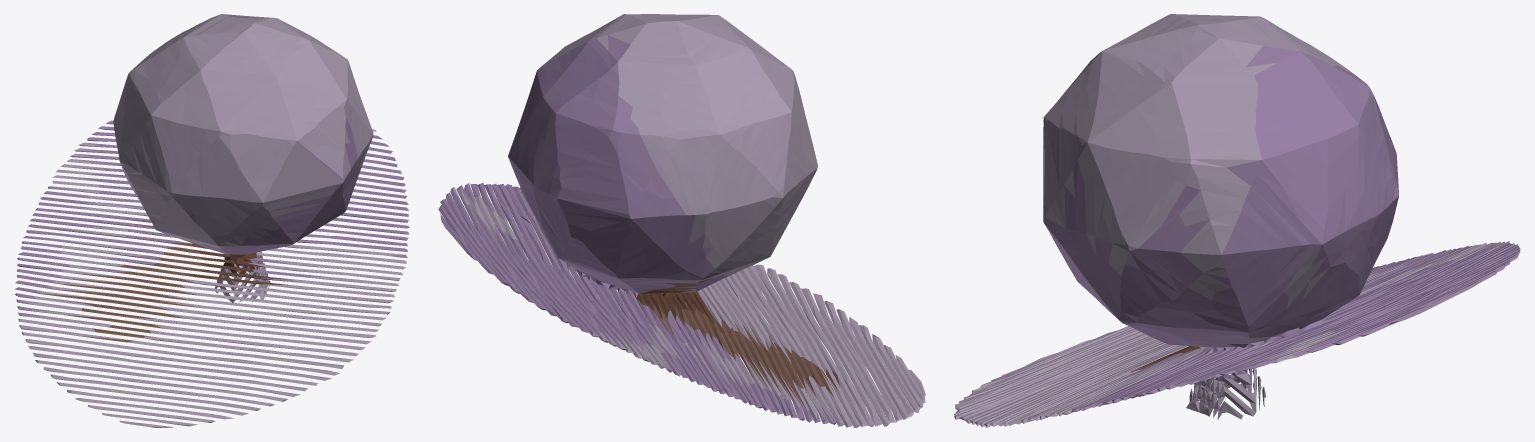
File: tree_lavender.glb
3 views of the same model, side by side, from view 1: azimuth 30°, elevation 25°; view 2: azimuth 150°, elevation 25°; view 3: azimuth 270°, elevation 25° (orthographic). The views are drawn at different scales.
Parts seen in each view (by area): view 1: geometry_0; view 2: geometry_0; view 3: geometry_0.
Boxes of the visible parts, x1,y1,x2,y2 form: geometry_0: [14, 14, 409, 427]; geometry_0: [438, 14, 925, 427]; geometry_0: [954, 14, 1520, 427].
Size of the model in its own units: 1.98 by 1.67 by 1.95.
